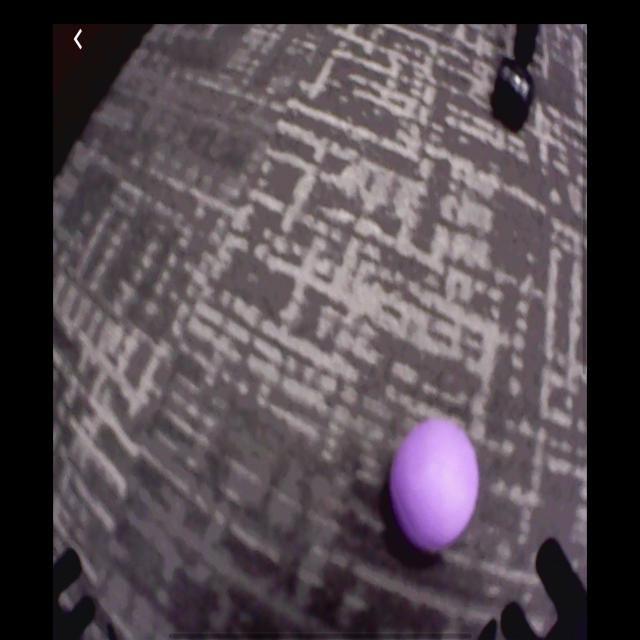ball: (393, 417, 481, 548)
